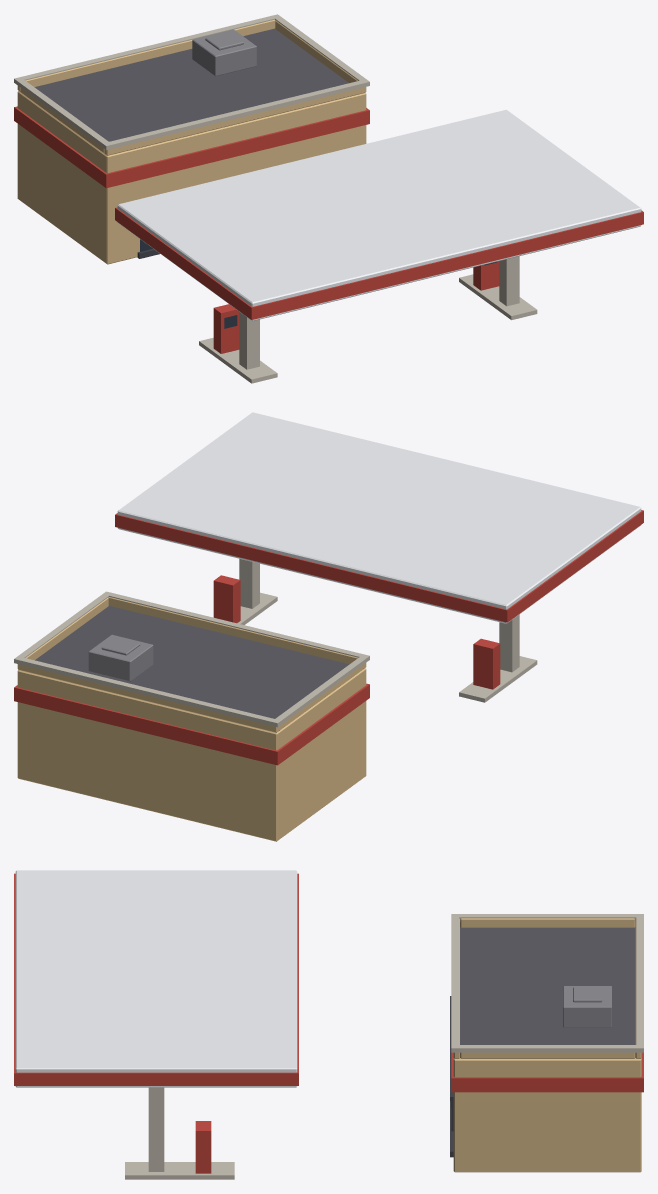
The model's file is GasStation.fbx.
3 views of the same model, one above another, from view 1: azimuth 30°, elevation 25°; view 2: azimuth 150°, elevation 25°; view 3: azimuth 270°, elevation 25° (orthographic). The views are drawn at different scales.
Parts seen in each view (by area): view 1: GasStation_Body, GasStation_Shop, GasStation_Roof, GasStation_Accent, GasStation_Trim, GasStation_RoofUnits; view 2: GasStation_Body, GasStation_Shop, GasStation_Roof, GasStation_Accent, GasStation_Trim, GasStation_RoofUnits; view 3: GasStation_Body, GasStation_Shop, GasStation_Roof, GasStation_Accent, GasStation_Trim, GasStation_RoofUnits, GasStation_Frame.
Boxes of the visible parts, x1,y1,x2,y2 form: GasStation_Body: [117, 109, 641, 321]; GasStation_Shop: [17, 19, 366, 264]; GasStation_Roof: [34, 28, 348, 141]; GasStation_Accent: [14, 106, 643, 353]; GasStation_Trim: [14, 14, 537, 383]; GasStation_RoofUnits: [192, 29, 256, 76]; GasStation_Body: [117, 412, 641, 623]; GasStation_Shop: [17, 597, 366, 841]; GasStation_Roof: [35, 605, 349, 718]; GasStation_Accent: [14, 510, 643, 765]; GasStation_Trim: [14, 559, 537, 727]; GasStation_RoofUnits: [88, 634, 153, 681]; GasStation_Body: [15, 870, 297, 1087]; GasStation_Shop: [453, 918, 641, 1172]; GasStation_Roof: [460, 927, 635, 1044]; GasStation_Accent: [14, 873, 643, 1173]; GasStation_Trim: [125, 914, 643, 1179]; GasStation_RoofUnits: [563, 986, 611, 1027]; GasStation_Frame: [450, 996, 453, 1157].
Bounding box in the file's own units: 60.4 × 19.7 × 80.5.
